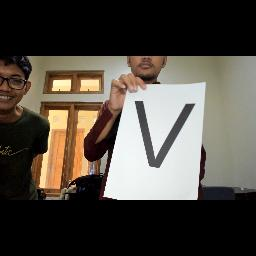v: (128, 94, 198, 176)
